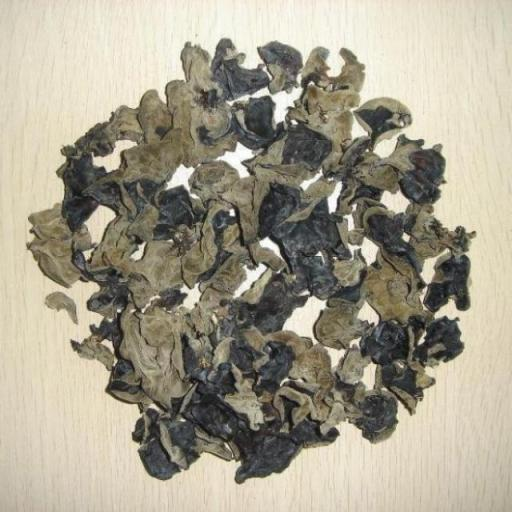Wood Ear Mushroom: (27, 42, 475, 482)
